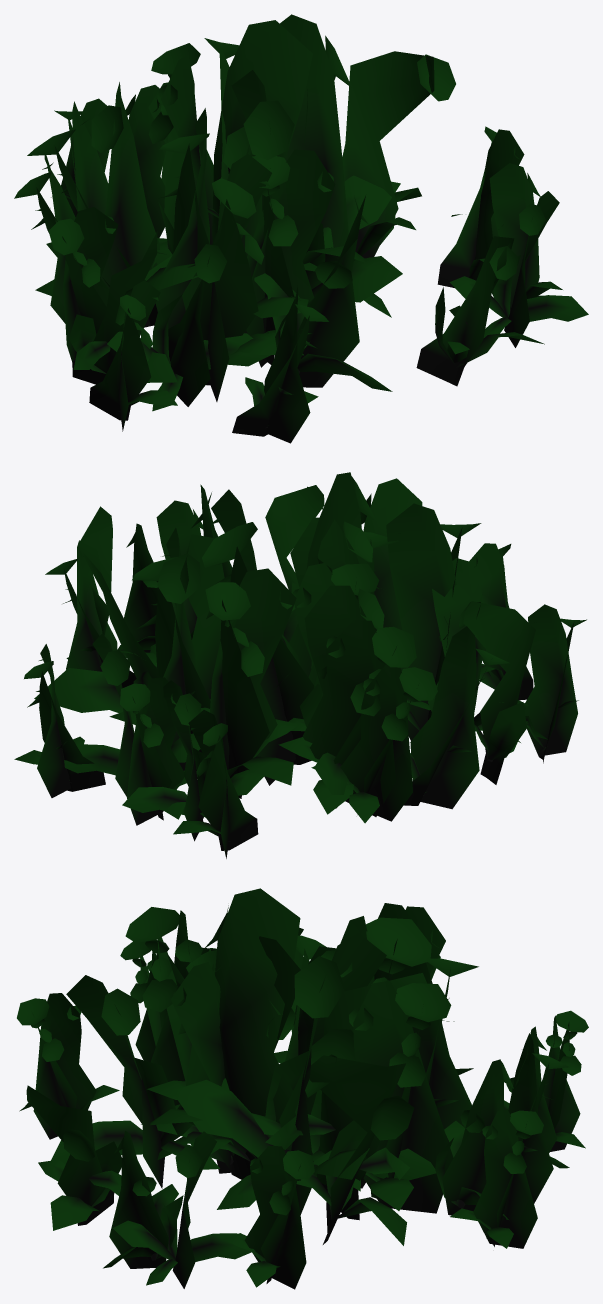
Rendered from FlowersDlionGCATA_J.fbx.
3 views of the same model, one above another, from view 1: azimuth 30°, elevation 25°; view 2: azimuth 150°, elevation 25°; view 3: azimuth 270°, elevation 25° (orthographic). The views are drawn at different scales.
Visible parts, largest first — view 1: FDGCATAJ_LOD0; view 2: FDGCATAJ_LOD0; view 3: FDGCATAJ_LOD0.
Boxes of the visible parts, x1=… form: FDGCATAJ_LOD0: x1=14, y1=14, x2=588, y2=443; FDGCATAJ_LOD0: x1=14, y1=472, x2=586, y2=858; FDGCATAJ_LOD0: x1=17, y1=888, x2=588, y2=1289.
Size of what is drawn, in the model's own units: 1.01 by 0.5761 by 1.02.
